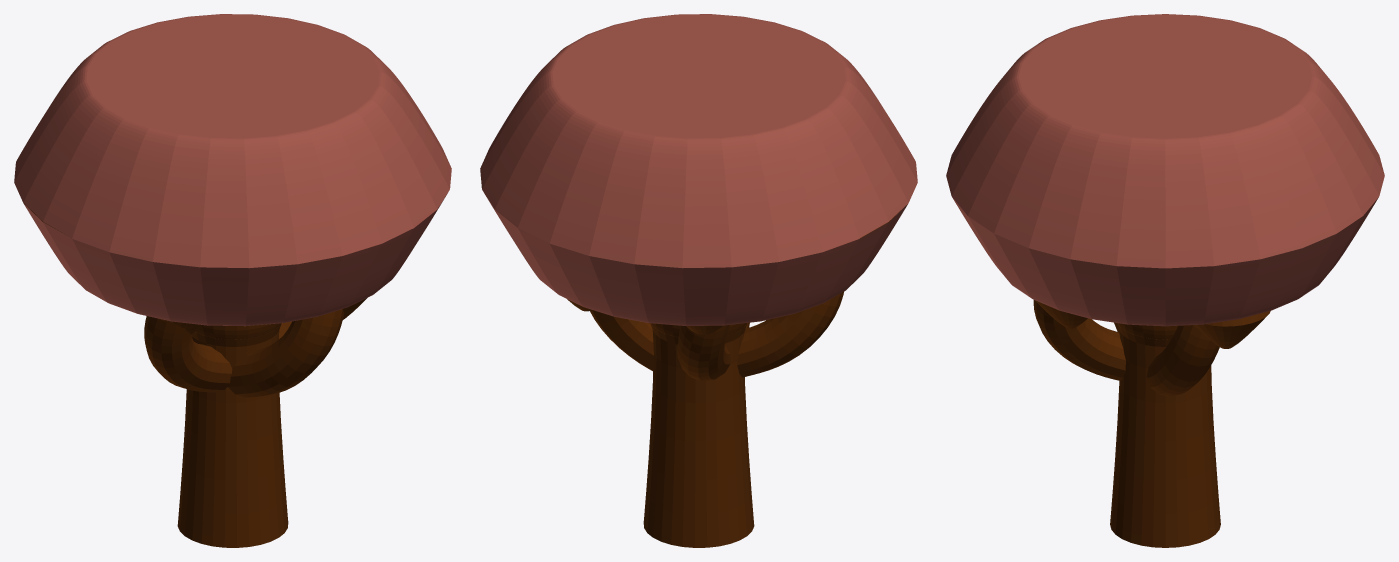
File: trees2.fbx
The picture shows the model from 3 angles, left to right: view 1: azimuth 30°, elevation 25°; view 2: azimuth 150°, elevation 25°; view 3: azimuth 270°, elevation 25°; orthographic projection.
Visible parts, largest first — view 1: imagetostl_mesh0; view 2: imagetostl_mesh0; view 3: imagetostl_mesh0.
Boxes of the visible parts, x1,y1,x2,y2 form: imagetostl_mesh0: [14, 14, 451, 547]; imagetostl_mesh0: [480, 14, 917, 547]; imagetostl_mesh0: [946, 14, 1384, 547].
Bounding box in the file's own units: 201 × 226 × 201.
